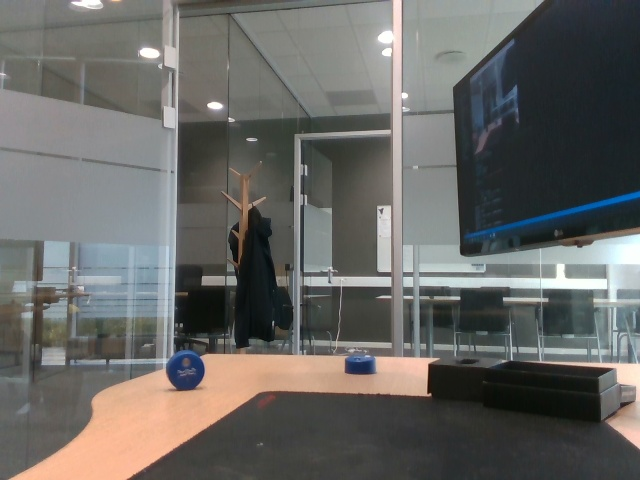alfa: (163, 349, 208, 394), (340, 350, 380, 378)
